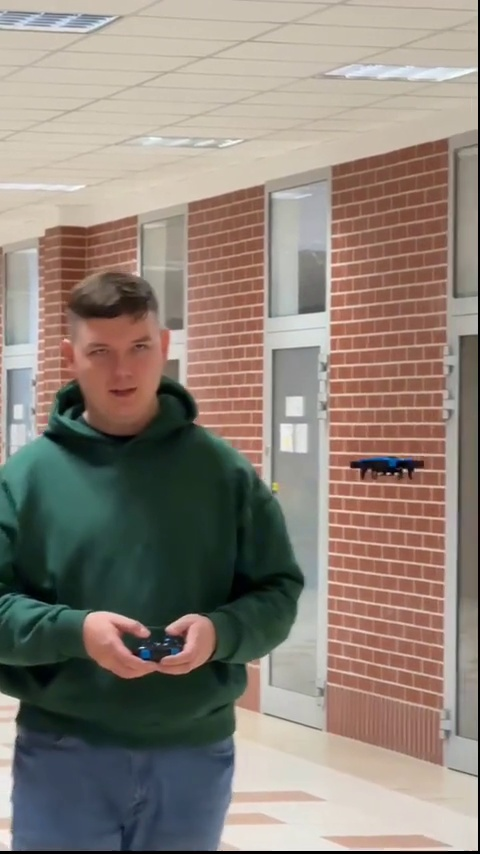drone: (350, 453, 427, 482)
no vest: (3, 272, 306, 830)
